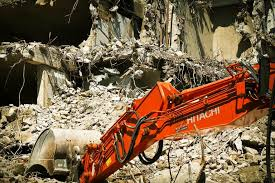excavator: (34, 60, 275, 181)
